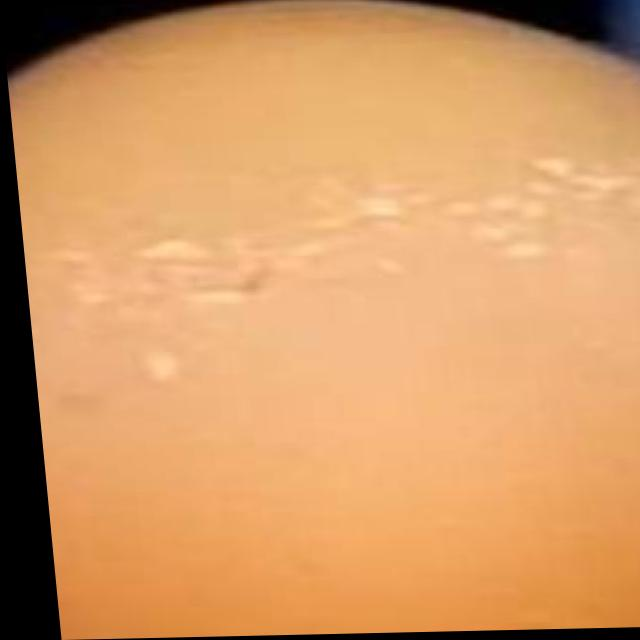unfresh: (1, 6, 640, 640)
